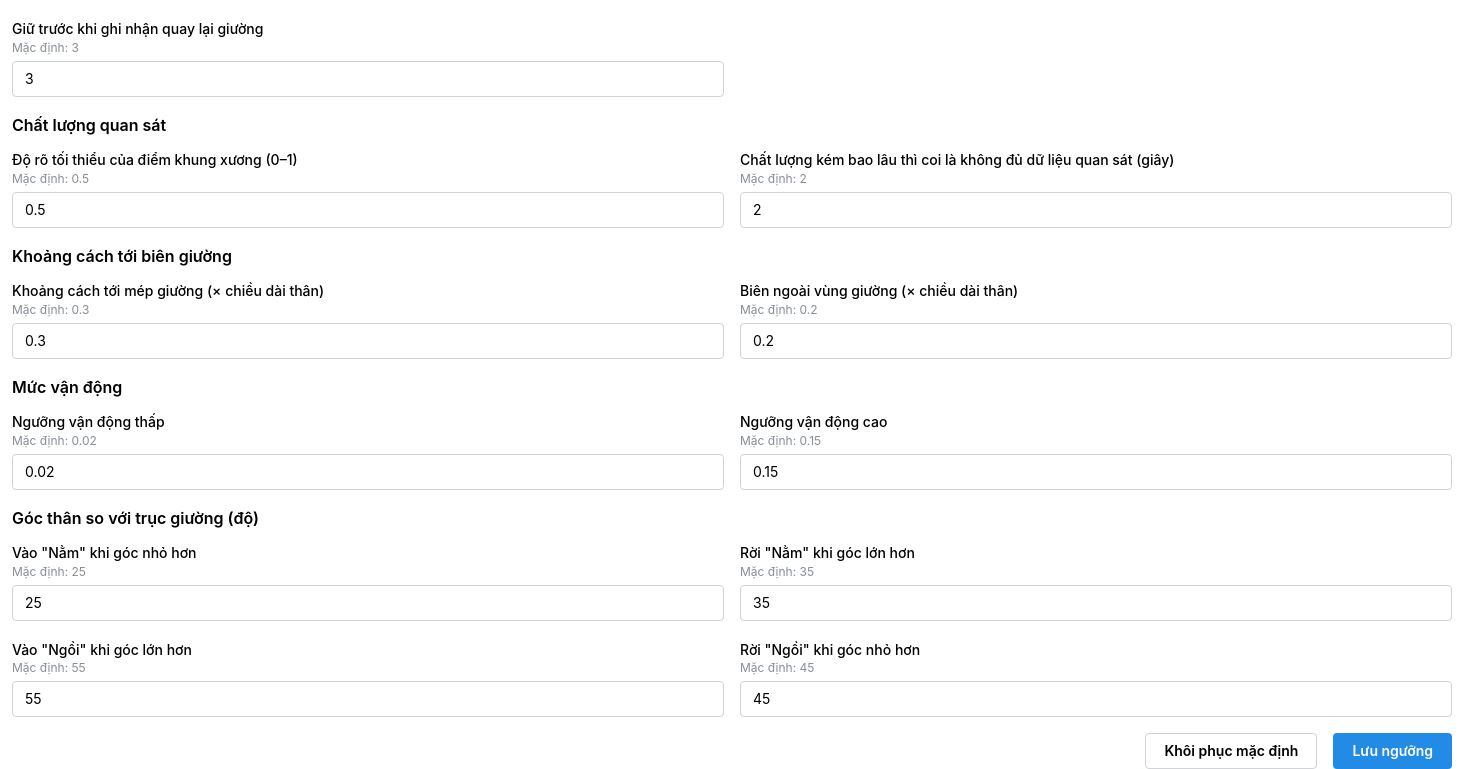
Test: ThresholdsForm › blocks save when a field is empty
(page scrolled)
Clear the field labelled "Ngưỡng vận động thấp": (368, 472) x1=12 y1=454 x2=724 y2=490
(page scrolled)
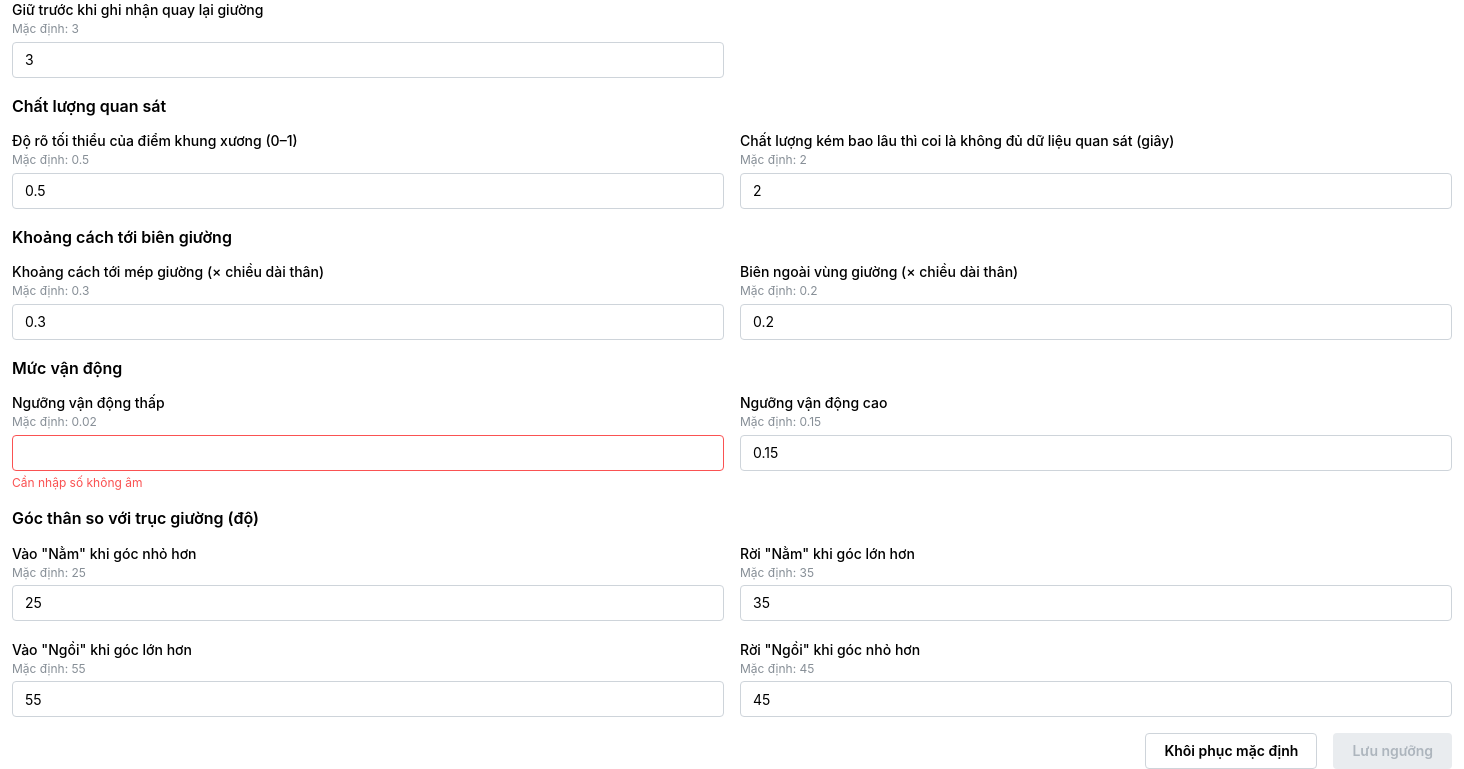
Result: the button "Lưu ngưỡng" is disabled at x1=1333 y1=733 x2=1452 y2=768
